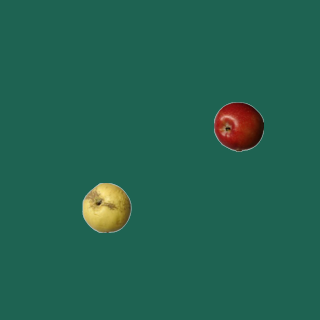Apple Braeburn: (213, 101, 263, 151)
Apple Golden 1: (81, 182, 131, 232)
